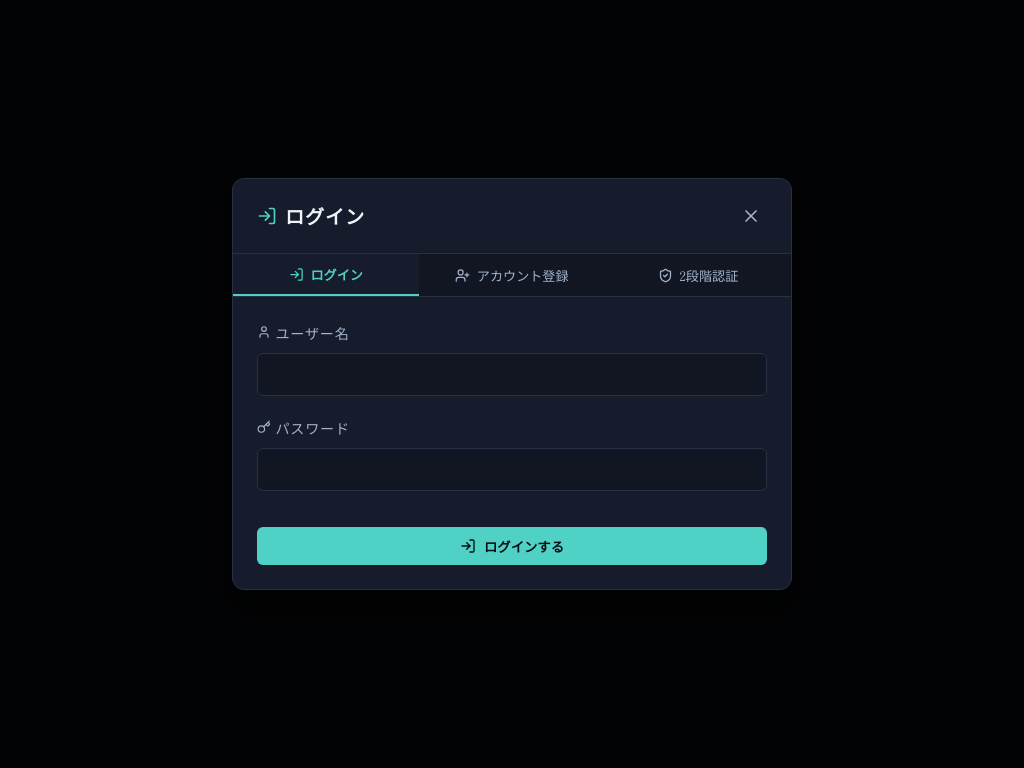
Test: 認証モーダルと2段階認証マーク・所有権確認ファイルのテスト › 2段階認証のコード発行と完了処理が実行される
Switch to 2FA tab
Click the button "2段階認証" at (698, 275), box [605, 254, 791, 296]
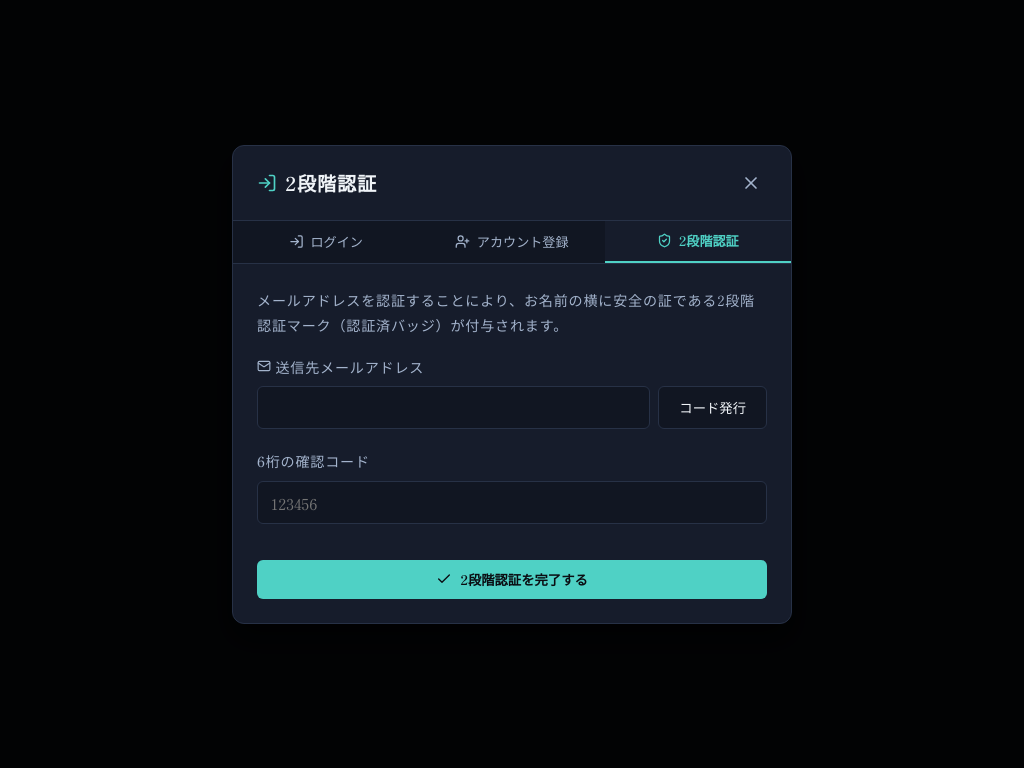
Request code
Type "user@kazeshirube.jp" into the field labelled "送信先メールアドレス" at (454, 408), box [257, 386, 650, 429]
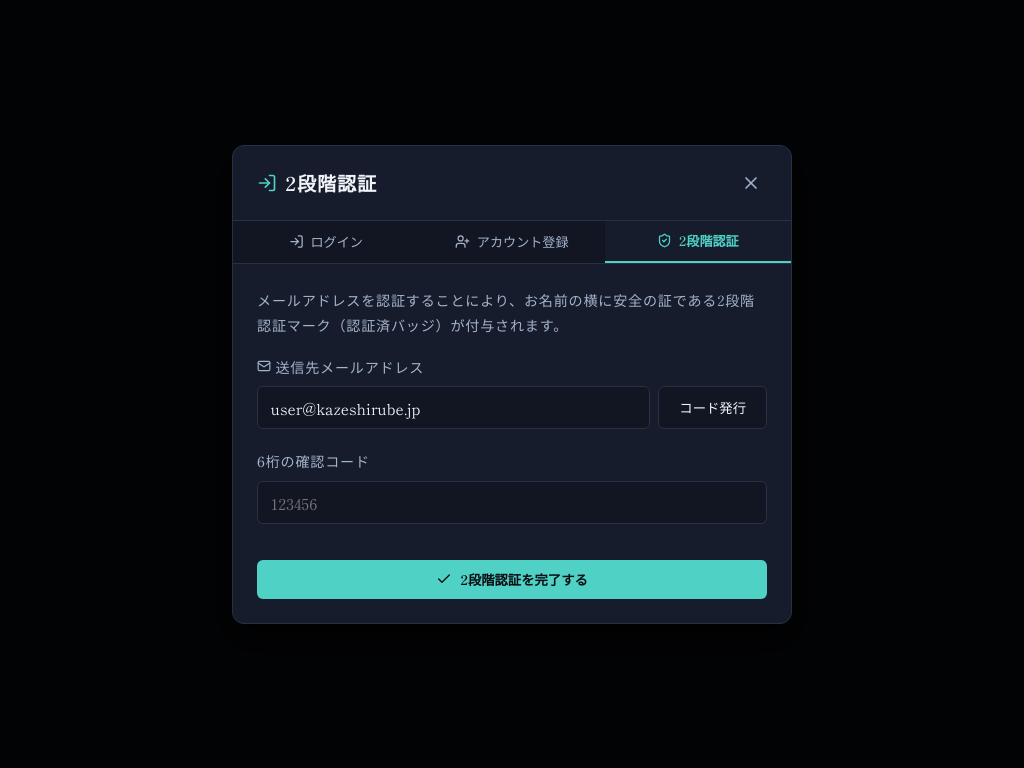
Click the button "コード発行" at (713, 408), box [658, 386, 767, 429]
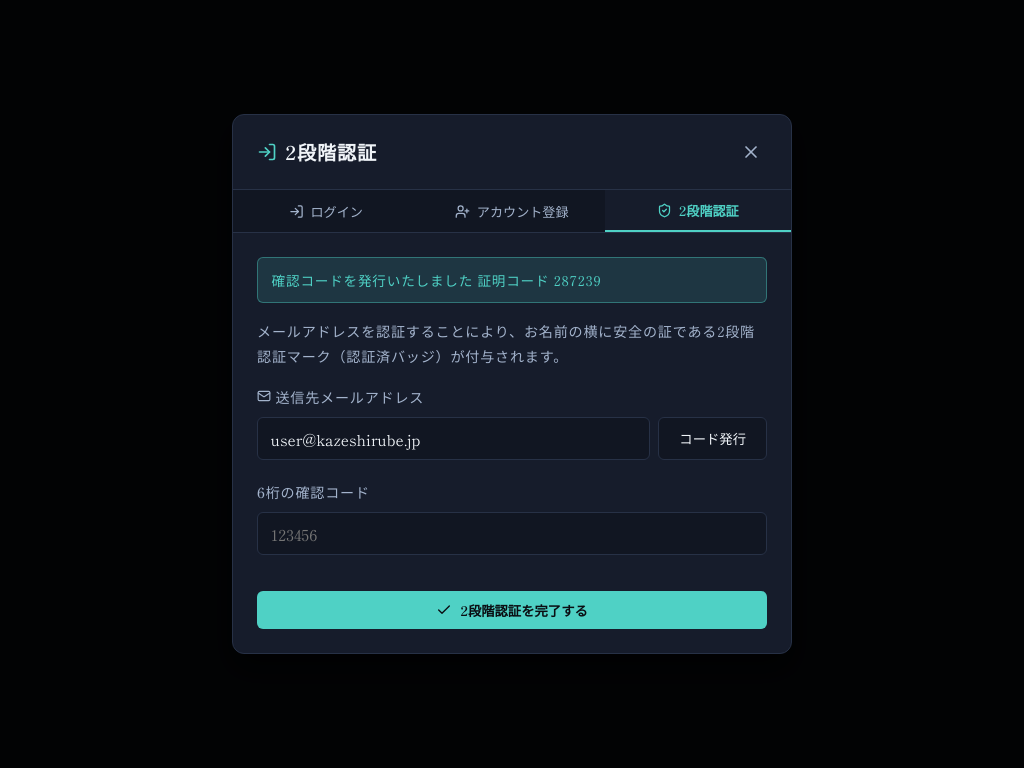
Expected: the text "確認コードを発行いたしました 証明コード 287239" is shown, [257, 257, 767, 303]
